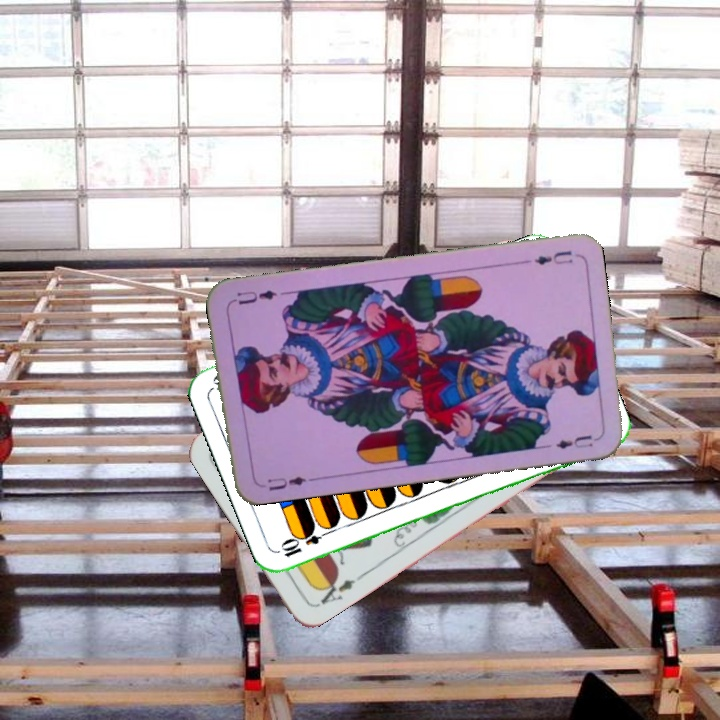E10: (277, 524, 334, 560)
EA: (311, 571, 365, 609)
EU: (254, 472, 314, 493), (518, 246, 576, 267)
